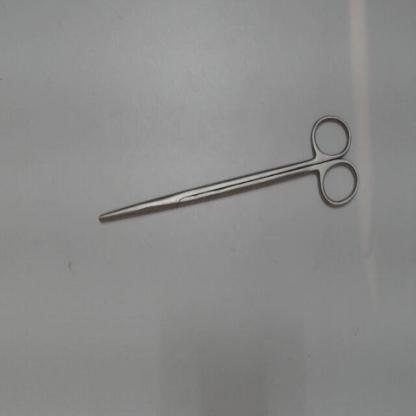9 Metzenbaum Scissors: (96, 109, 365, 227)
